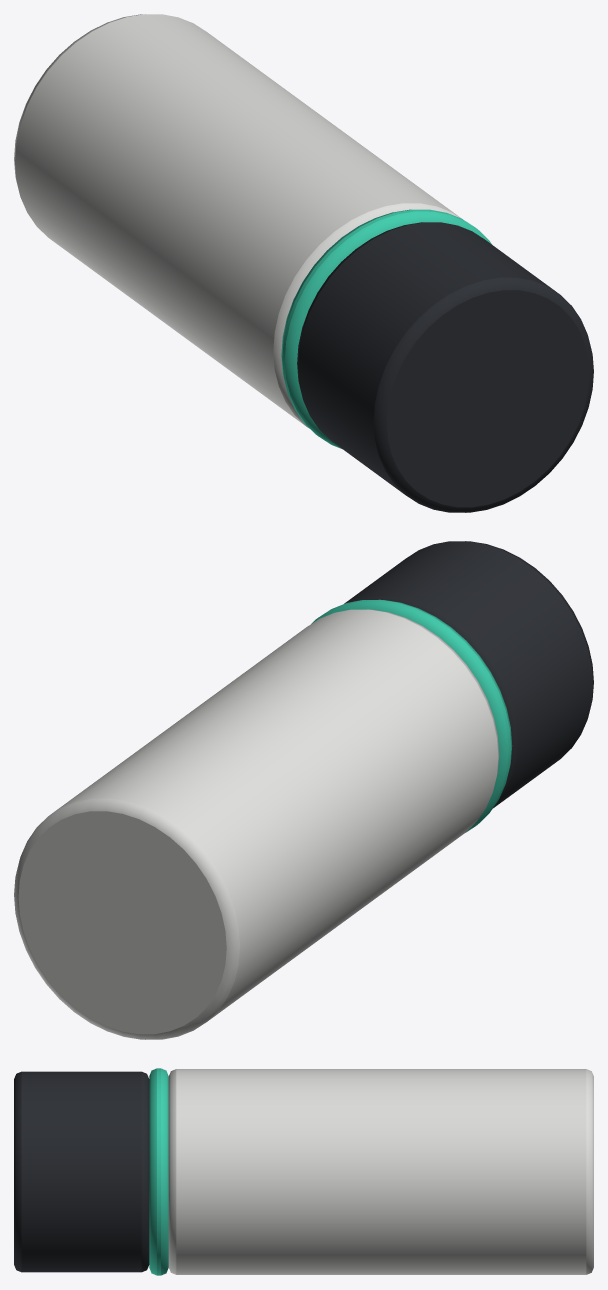
File: arm_base.obj
3 views of the same model, one above another, from view 1: azimuth 30°, elevation 25°; view 2: azimuth 150°, elevation 25°; view 3: azimuth 270°, elevation 25° (orthographic). The views are drawn at different scales.
Visible parts, largest first — view 1: arm_base; view 2: arm_base; view 3: arm_base.
Part boxes in pixels (<box>): arm_base: <box>14,14,593,512</box>; arm_base: <box>14,541,593,1039</box>; arm_base: <box>14,1068,593,1275</box>.
Size of the model in its own units: 0.161 by 0.161 by 0.45.
